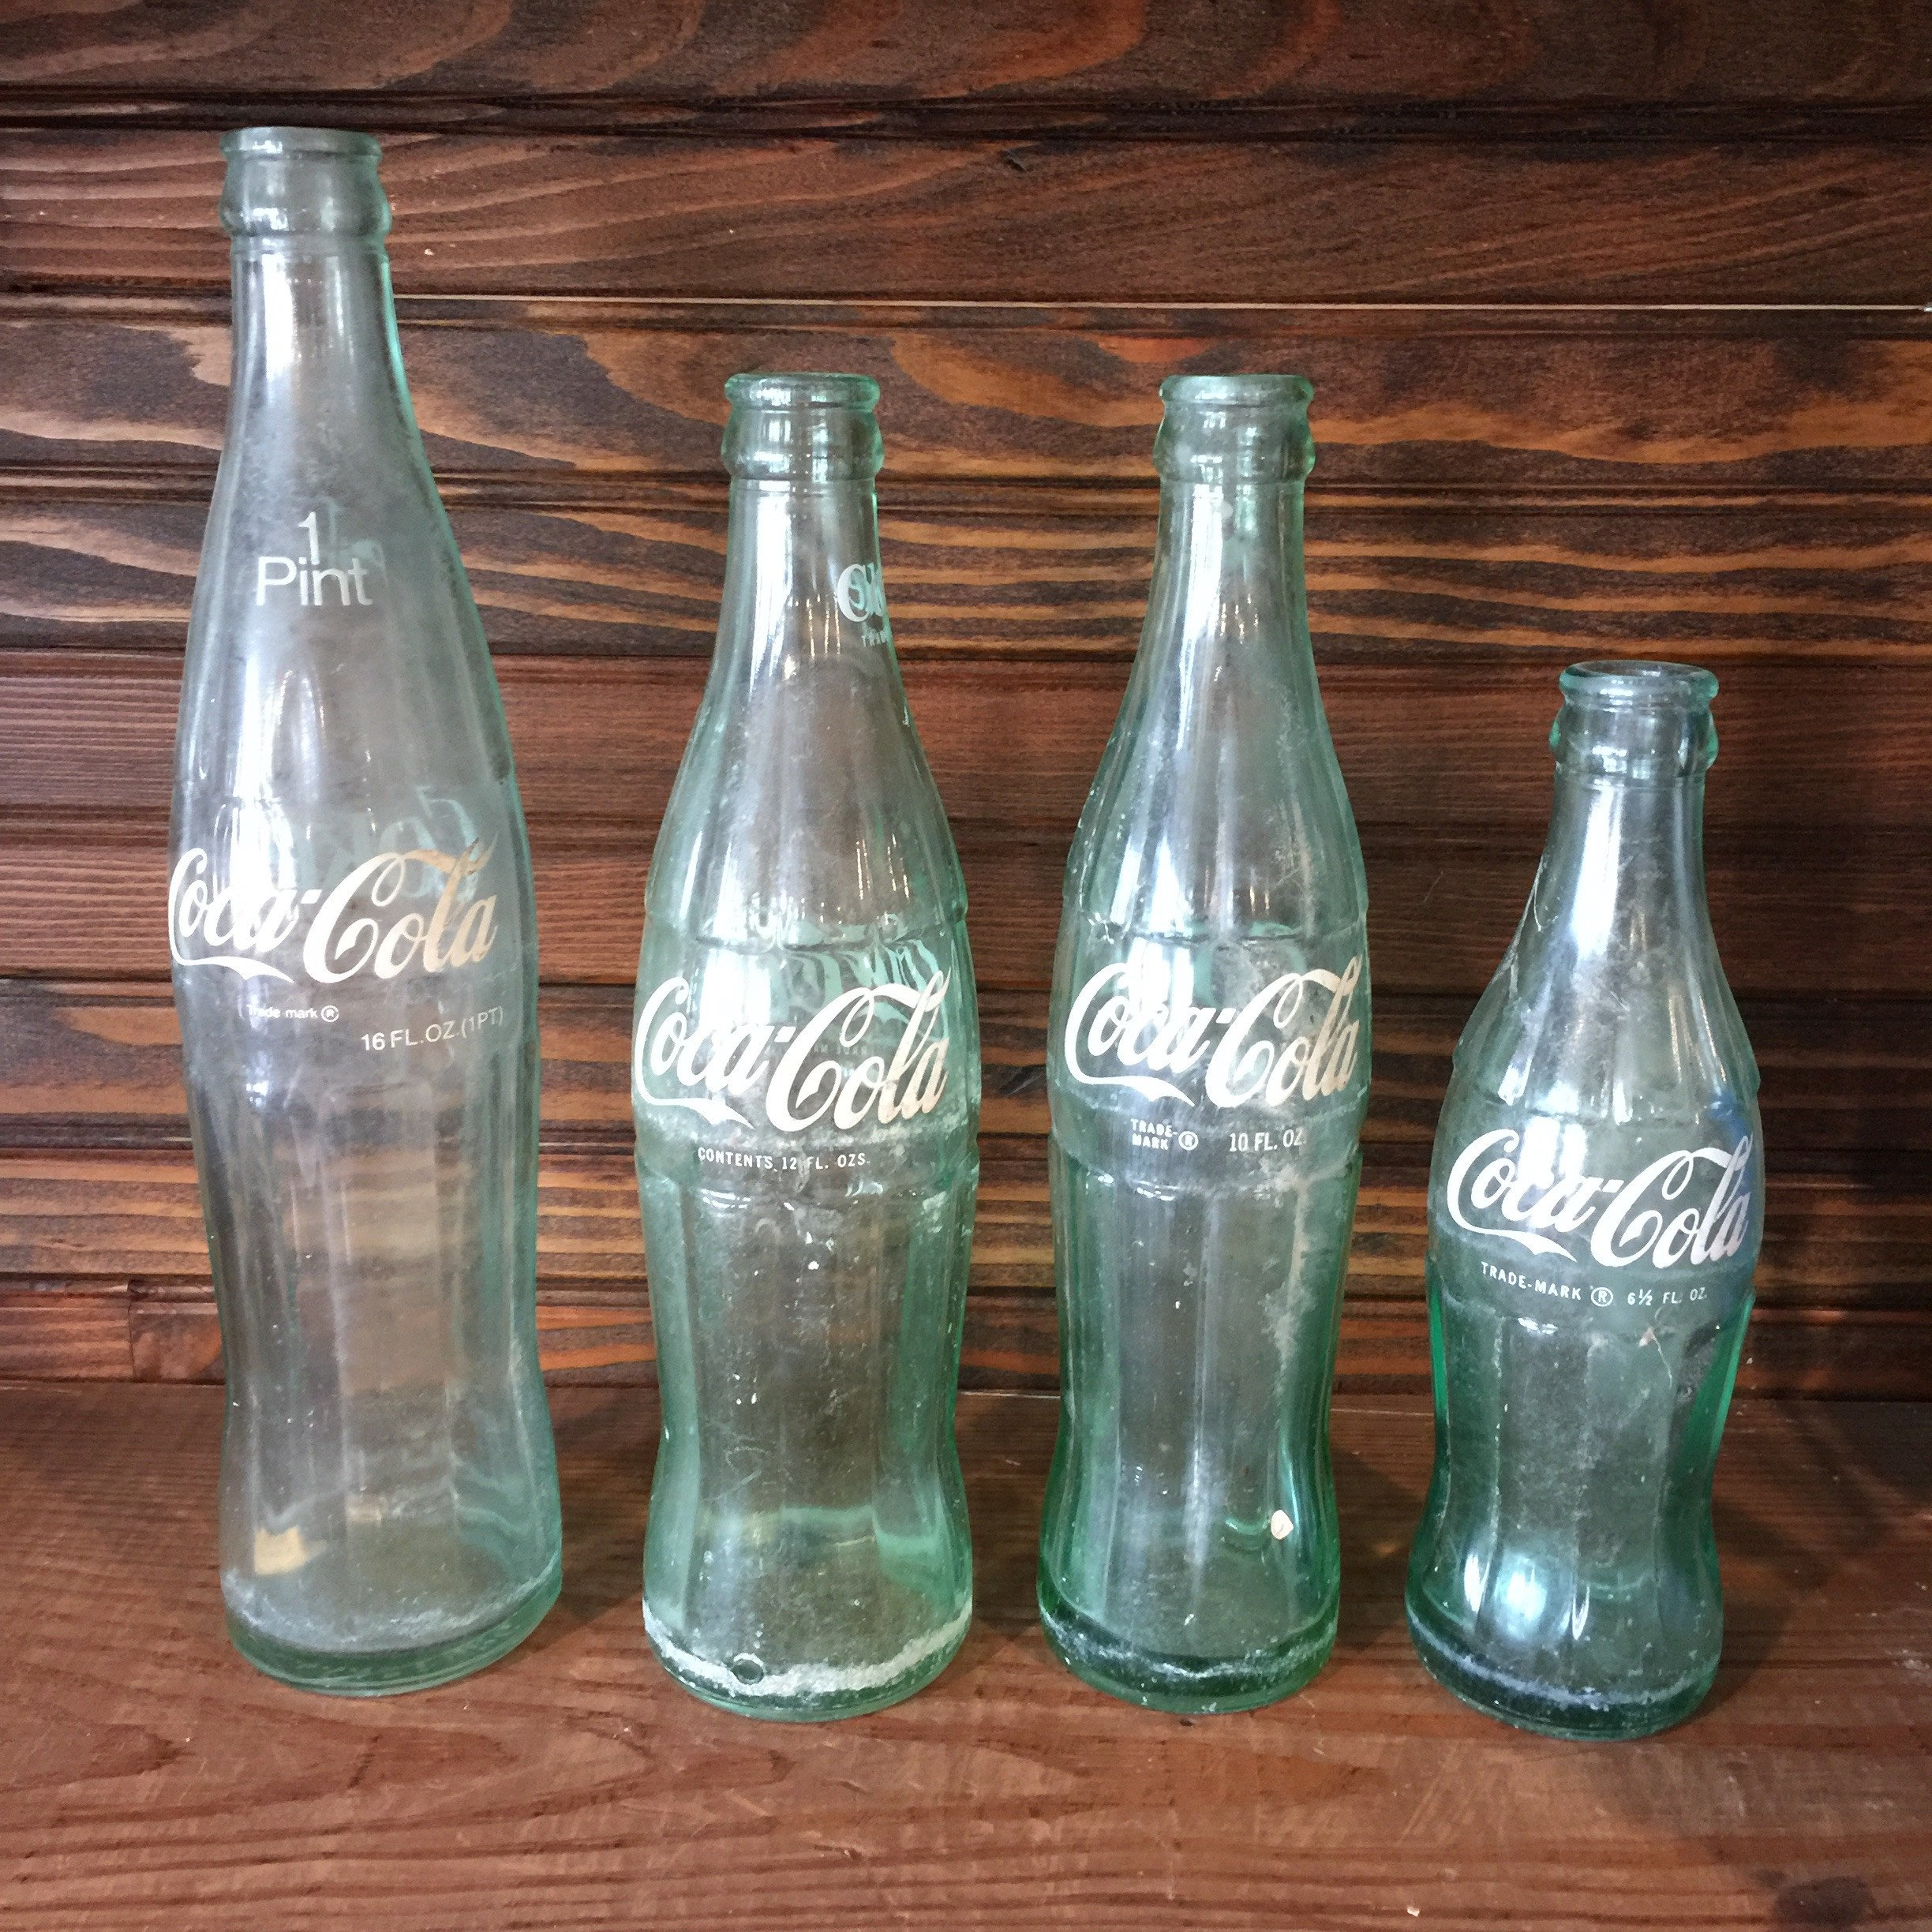Rec_Glass: (154, 124, 577, 1706), (619, 349, 994, 1721), (1024, 327, 1366, 1739), (1399, 545, 1748, 1752)
